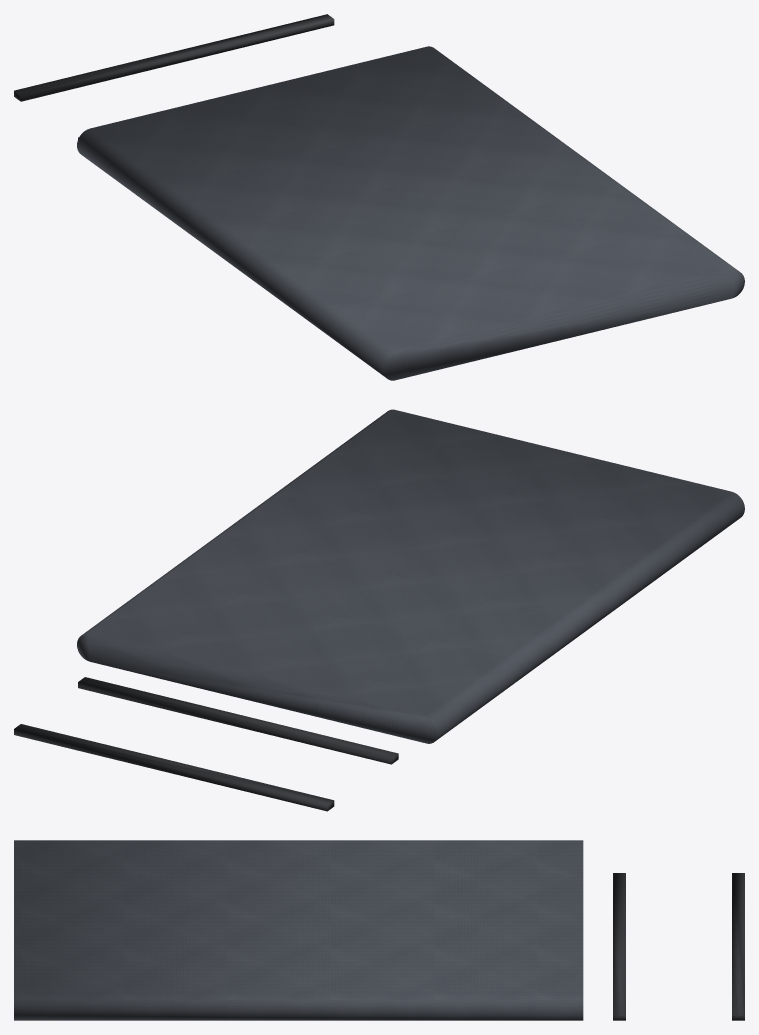
File: ACOUSTIC_PANEL_001.glb
The picture shows the model from 3 angles, top to bottom: view 1: azimuth 30°, elevation 25°; view 2: azimuth 150°, elevation 25°; view 3: azimuth 270°, elevation 25°; orthographic projection. The views are drawn at different scales.
Parts seen in each view (by area): view 1: panel_000, groove_001; view 2: panel_000, groove_002, groove_001; view 3: panel_000, groove_001, groove_002.
Boxes of the visible parts, left/top/right/bottom form: panel_000: left=77, top=46, right=744, bottom=380; groove_001: left=14, top=14, right=334, bottom=101; panel_000: left=77, top=409, right=744, bottom=743; groove_002: left=78, top=677, right=398, bottom=764; groove_001: left=14, top=724, right=334, bottom=811; panel_000: left=14, top=840, right=583, bottom=1020; groove_001: left=732, top=873, right=744, bottom=1020; groove_002: left=613, top=873, right=625, bottom=1020.
Size of the model in its own units: 0.75 by 0.0685 by 1.41.
2 materials, 2 textured.
